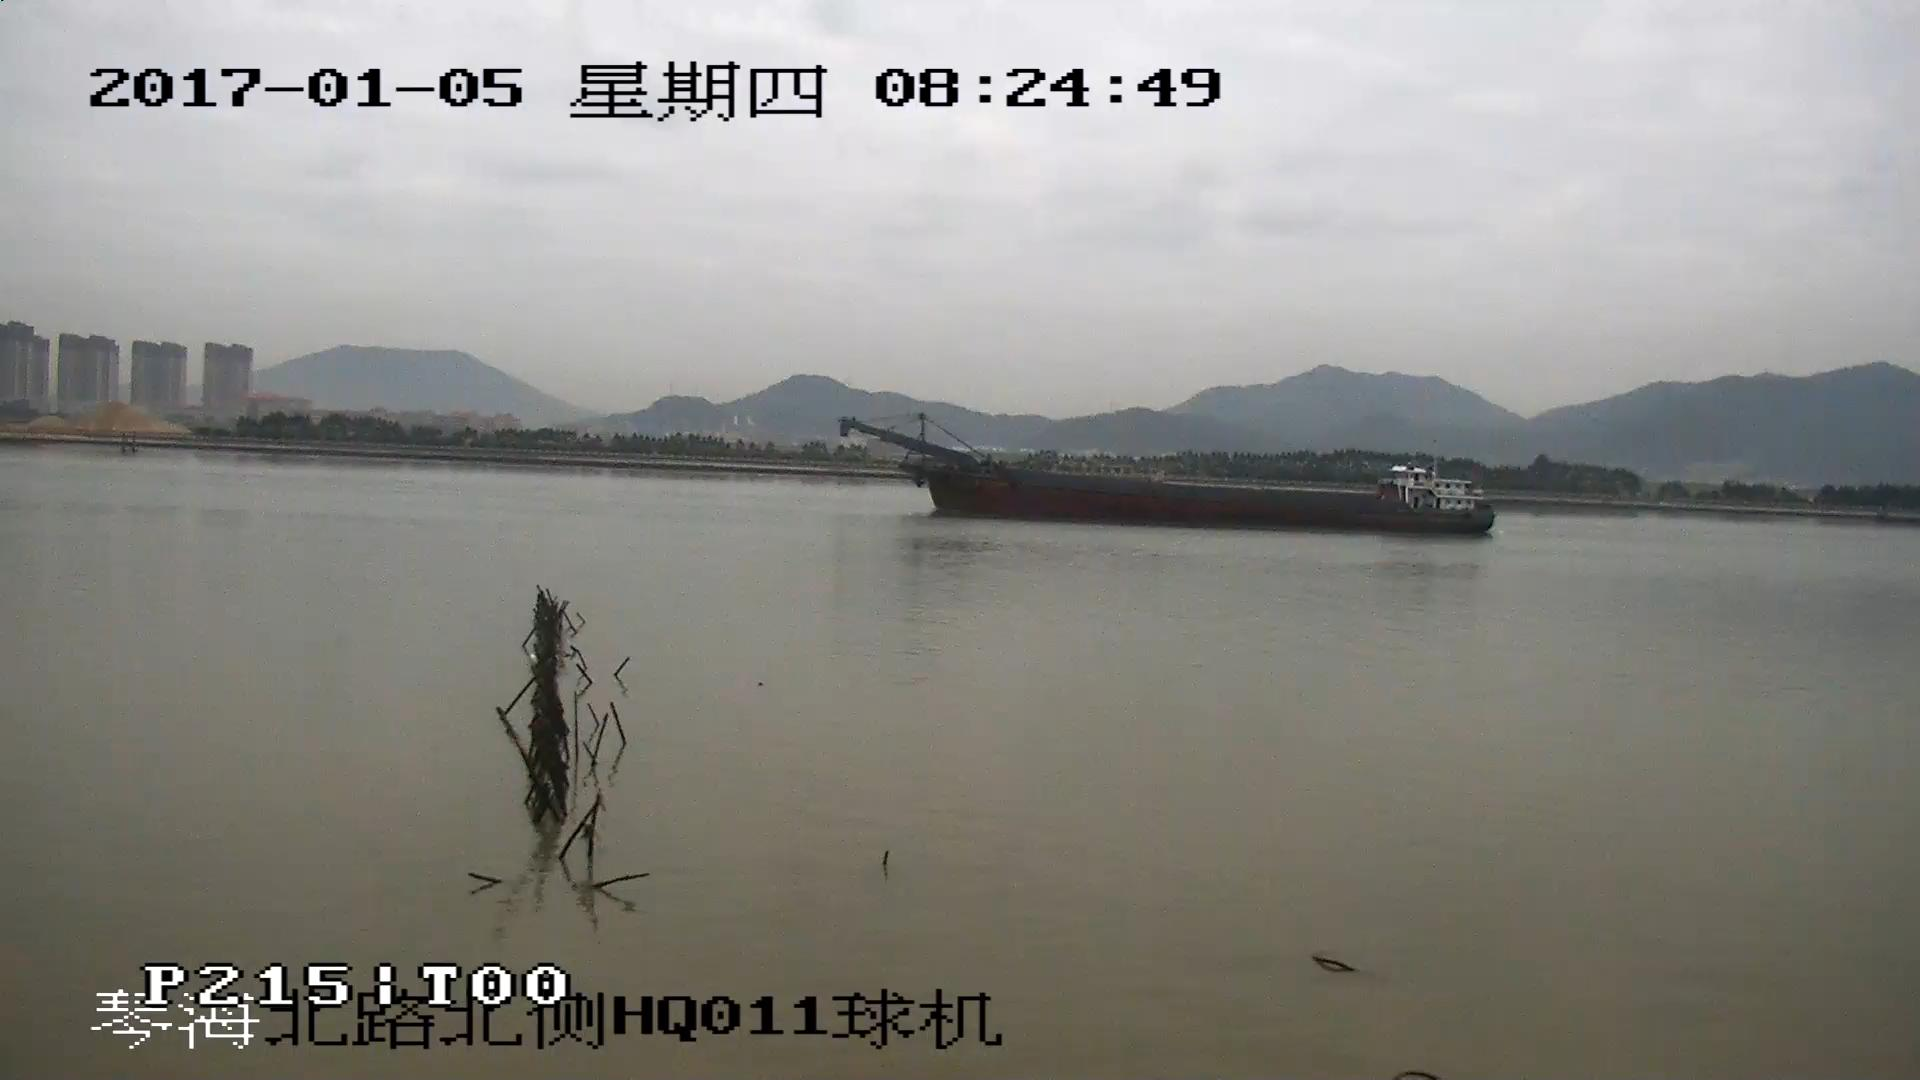bulk cargo carrier: (844, 414, 1495, 536)
